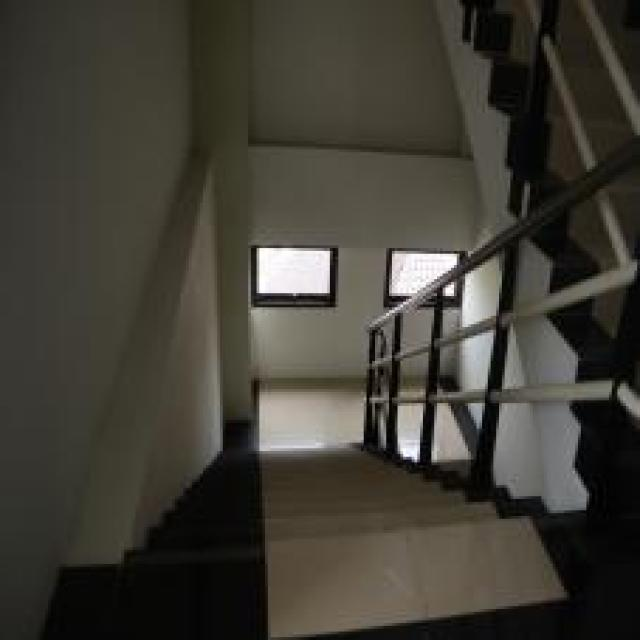downstair: (221, 452, 387, 613)
